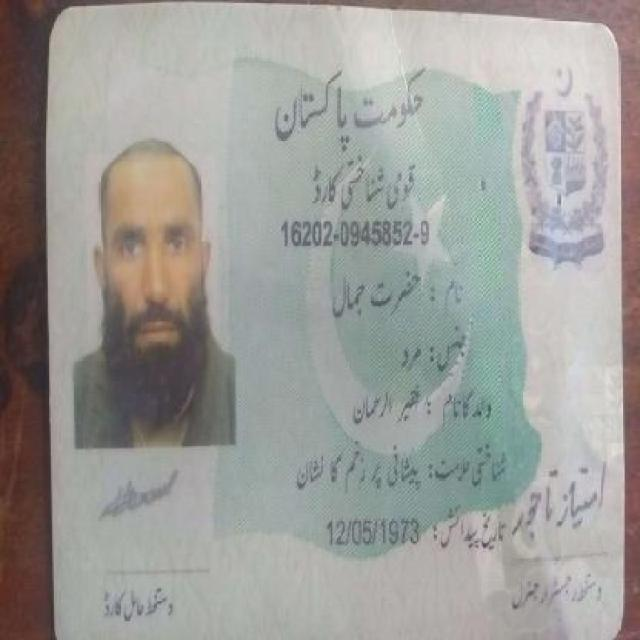Front: (45, 3, 624, 635)
